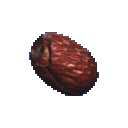ng: (23, 26, 104, 102)
